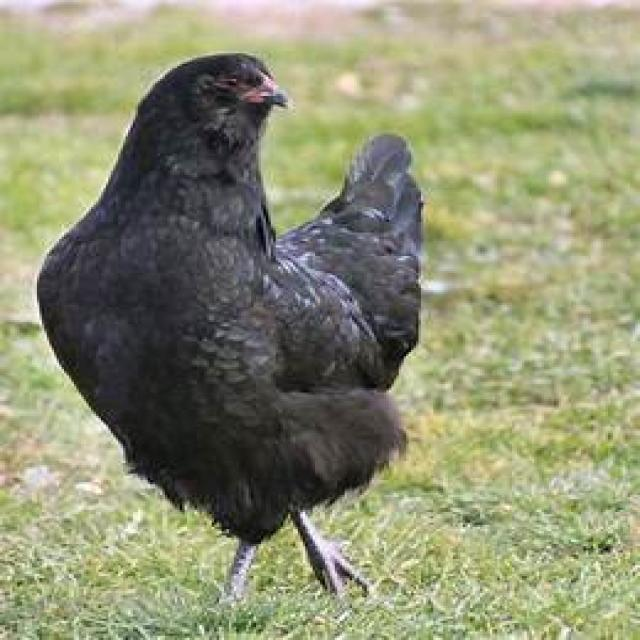hen: (39, 53, 426, 606)
